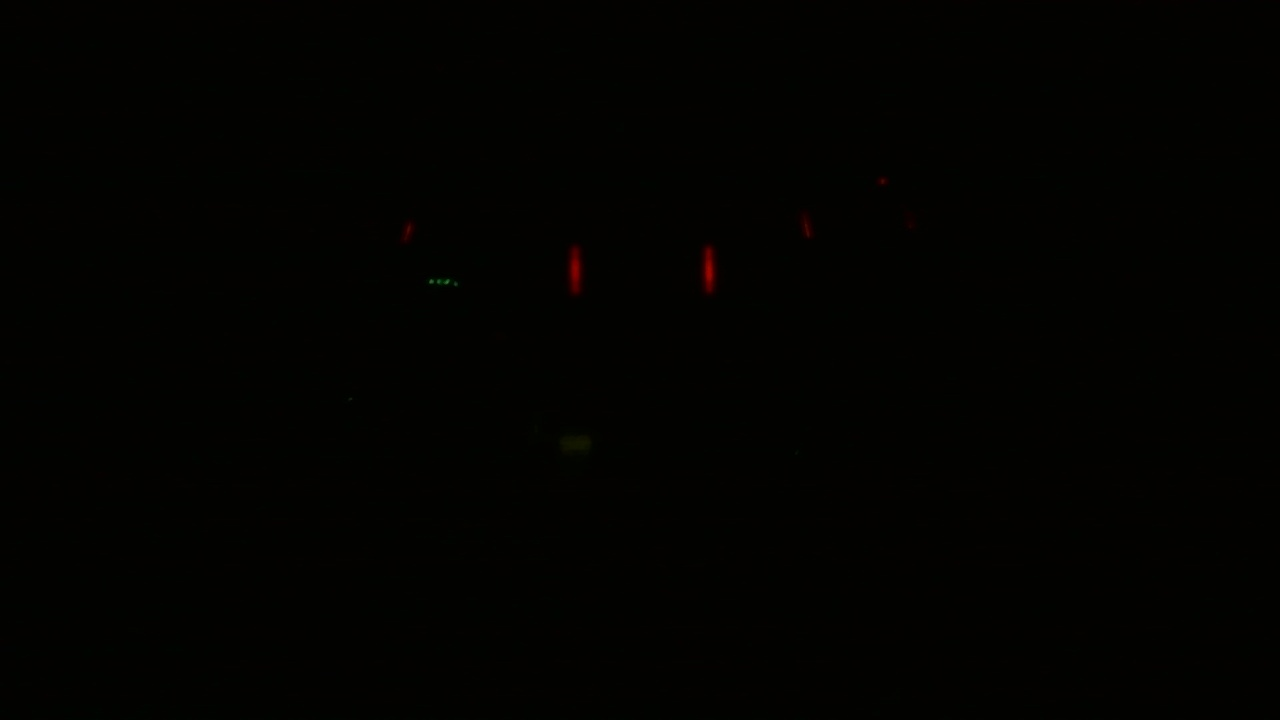pair1: (563, 234, 718, 302)
